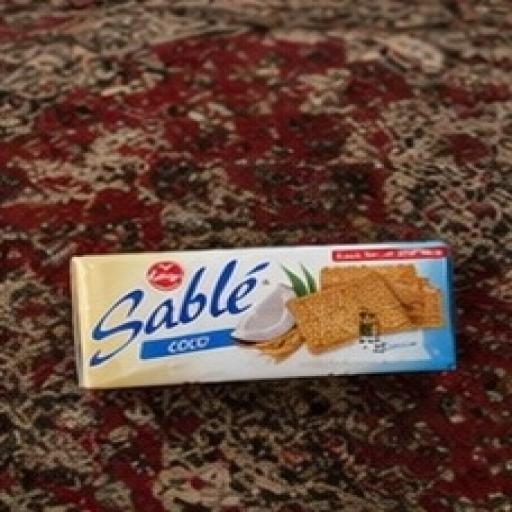sable: (45, 185, 491, 458)
